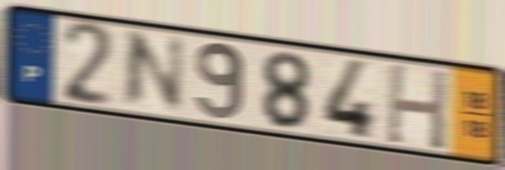2: (59, 17, 116, 110)
4: (321, 57, 380, 141)
8: (257, 49, 314, 131)
9: (193, 40, 246, 123)
H: (383, 60, 451, 154)
N: (118, 28, 188, 113)
